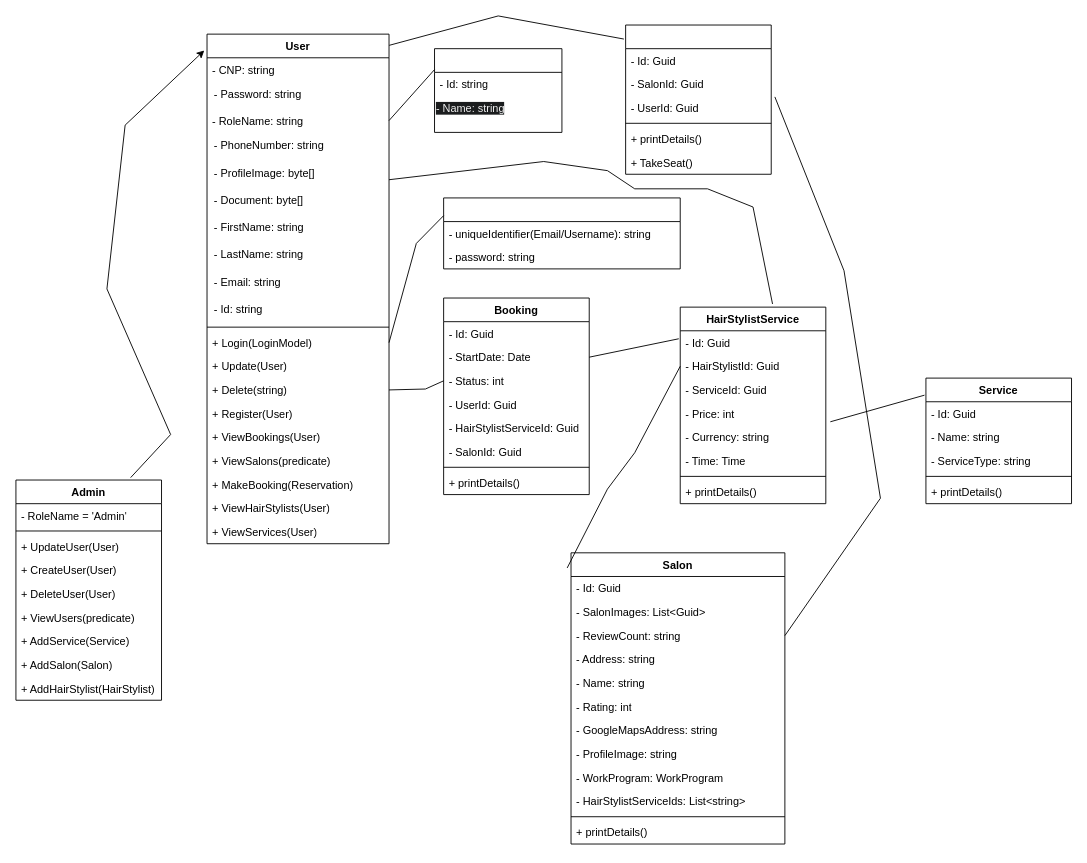
The diagram is 1087 pixels wide and 863 high, and some of its shapes have lost their labels. Each missing label, with the box of its shape:
Favorite: (625, 24, 771, 174)
LoginModel: (443, 197, 680, 269)
Role: (434, 48, 562, 132)
